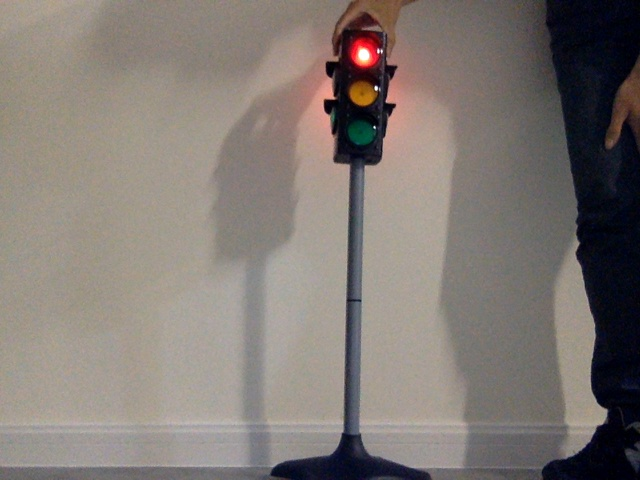red: (341, 36, 382, 156)
